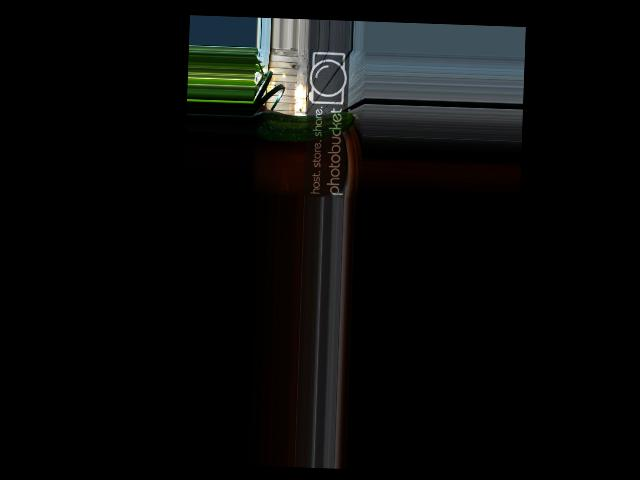cucumber: (252, 108, 359, 143)
